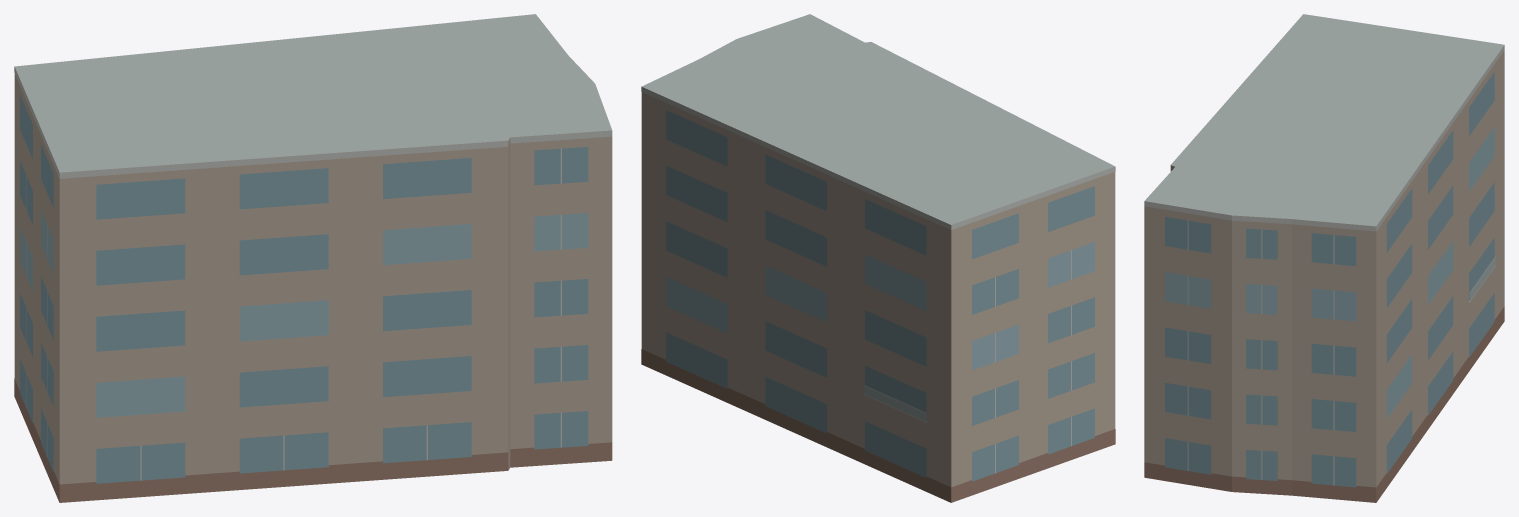
The model's file is survey-upis-32496239.glb.
3 views of the same model, side by side, from view 1: azimuth 30°, elevation 25°; view 2: azimuth 150°, elevation 25°; view 3: azimuth 270°, elevation 25° (orthographic). The views are drawn at different scales.
Visible parts, largest first — view 1: survey-upis-32496239.tmp; view 2: survey-upis-32496239.tmp; view 3: survey-upis-32496239.tmp.
Boxes of the visible parts, box(x1,y1,x2,y2) form: survey-upis-32496239.tmp: box(14, 14, 612, 502); survey-upis-32496239.tmp: box(641, 14, 1115, 502); survey-upis-32496239.tmp: box(1144, 14, 1504, 502).
Bounding box in the file's own units: 21.7 × 13.17 × 15.56.
